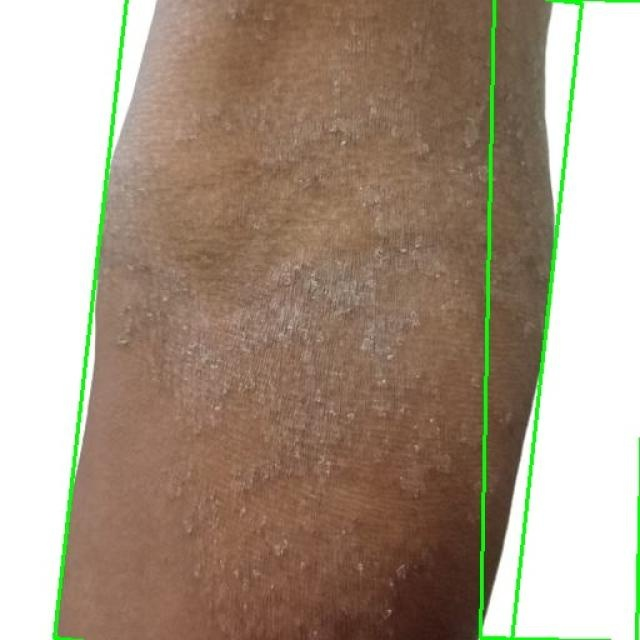Eczema: (55, 0, 582, 640), (481, 0, 640, 640)
